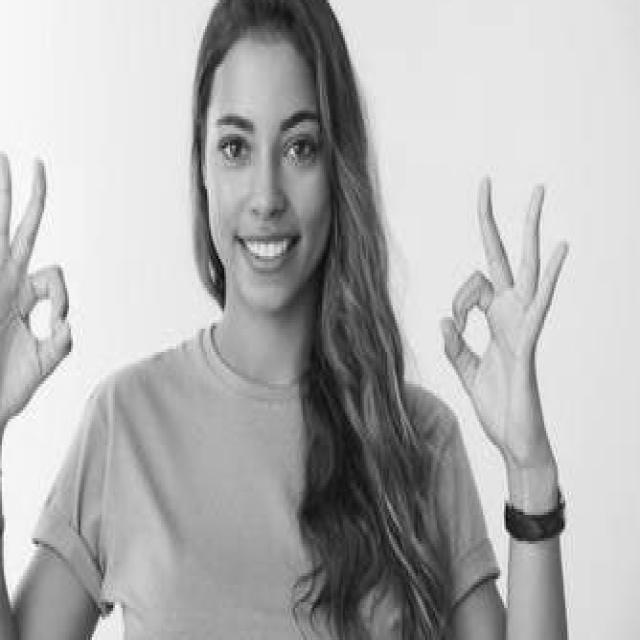perfect: (436, 168, 578, 478), (0, 140, 79, 424)
